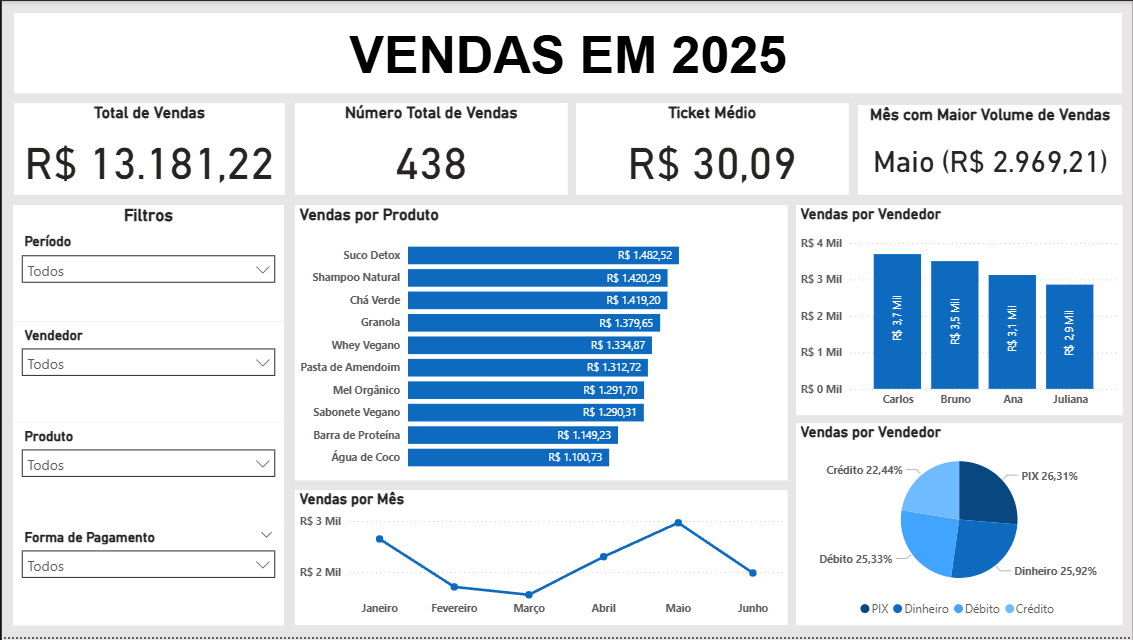

The dashboard page shown, as its layout file describes it:
{"tool":"powerbi","page":{"name":"Vendas 2025","canvas":[1280,720],"ordinal":0},"visuals":[{"type":"slicer","title":"Filtros","fields":{"Values":["Vendas Consolidadas.Mês"]},"box":[12.7,231.3,307,132.3],"z":0,"group":"g1"},{"type":"textbox","box":[13.3,13.3,1255.3,91.3],"z":0},{"type":"card","title":"Total de Vendas","fields":{"Values":["Vendas Consolidadas.Total de Vendas Formatado"]},"box":[13.7,116.1,307,103.9],"z":1000},{"type":"slicer","fields":{"Values":["Vendas Consolidadas.Vendedor"]},"box":[12.5,363.6,307,114.4],"z":1000,"group":"g1"},{"type":"card","title":"Número Total de Vendas","fields":{"Values":["Vendas Consolidadas.Quantidade Total de Vendas"]},"box":[331.5,116.1,308.5,103.9],"z":2000},{"type":"slicer","fields":{"Values":["Vendas Consolidadas.Produto"]},"box":[12.5,478,307,115.5],"z":2000,"group":"g1"},{"type":"card","title":"Ticket Médio","fields":{"Values":["Vendas Consolidadas.Ticket Medio"]},"box":[650.7,116.1,308.5,103.9],"z":3000},{"type":"slicer","fields":{"Values":["Vendas Consolidadas.Forma de Pagamento"]},"box":[12.7,593.1,307,114.8],"z":3000,"group":"g1"},{"type":"card","title":"Mês com Maior Volume de Vendas","fields":{"Values":["Resumo Mês.Mês com Volume"]},"box":[969.9,117.6,299.4,102.3],"z":4000},{"type":"barChart","title":"Vendas por Produto","fields":{"Category":["Vendas Consolidadas.Produto"],"Y":["Vendas Consolidadas.Valor"]},"box":[331.5,230.6,557.5,311.6],"z":6000},{"type":"lineChart","title":"Vendas por Mês","fields":{"Y":["Resumo Mês.Valor"],"Category":["TabelaMeses.Mês"]},"box":[331.5,554.5,557.5,152.7],"z":7000},{"type":"clusteredColumnChart","title":"Vendas por Vendedor","fields":{"Category":["Vendas Consolidadas.Vendedor"],"Y":["Vendas Consolidadas.Valor"]},"box":[899.7,230.6,369.6,238.3],"z":8000},{"type":"pieChart","title":"Vendas por Vendedor","fields":{"Category":["Vendas Consolidadas.Forma de Pagamento"],"Y":["Vendas Consolidadas.Valor"]},"box":[899.7,478.1,369.6,229.1],"z":9000},{"type":"group","id":"g1","title":"Grupo 1","box":[12.5,231.3,307.2,476.6],"z":9001}]}

Visuals, with their boxes in screenshot pixels (x1, y1, x2, y2), scaled from the page's 1280x720 canvas onto the 1133x640 screenshot:
"Filtros" slicer: (11,206,283,323)
textbox: (12,12,1123,93)
"Total de Vendas" card: (12,103,284,196)
slicer - Vendas Consolidadas.Vendedor: (11,323,283,425)
"Número Total de Vendas" card: (293,103,566,196)
slicer - Vendas Consolidadas.Produto: (11,425,283,528)
"Ticket Médio" card: (576,103,849,196)
slicer - Vendas Consolidadas.Forma de Pagamento: (11,527,283,629)
"Mês com Maior Volume de Vendas" card: (859,105,1124,195)
"Vendas por Produto" barChart: (293,205,787,482)
"Vendas por Mês" lineChart: (293,493,787,629)
"Vendas por Vendedor" clusteredColumnChart: (796,205,1124,417)
"Vendas por Vendedor" pieChart: (796,425,1124,629)
"Grupo 1" group: (11,206,283,629)
